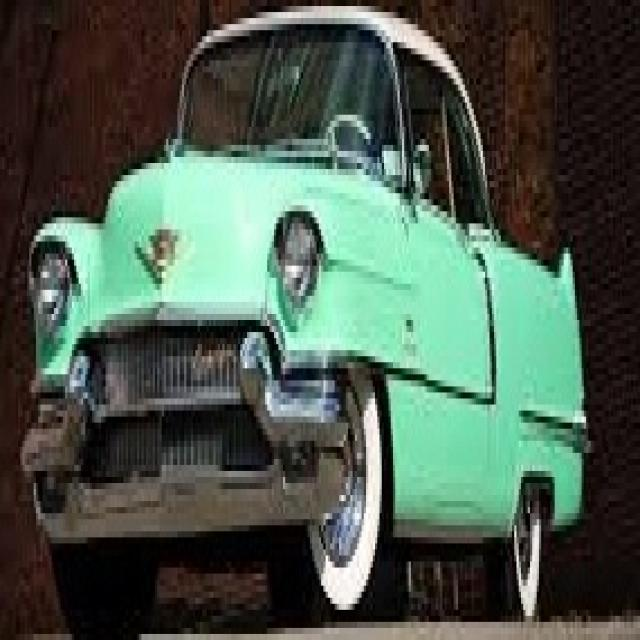green: (26, 1, 586, 640)
